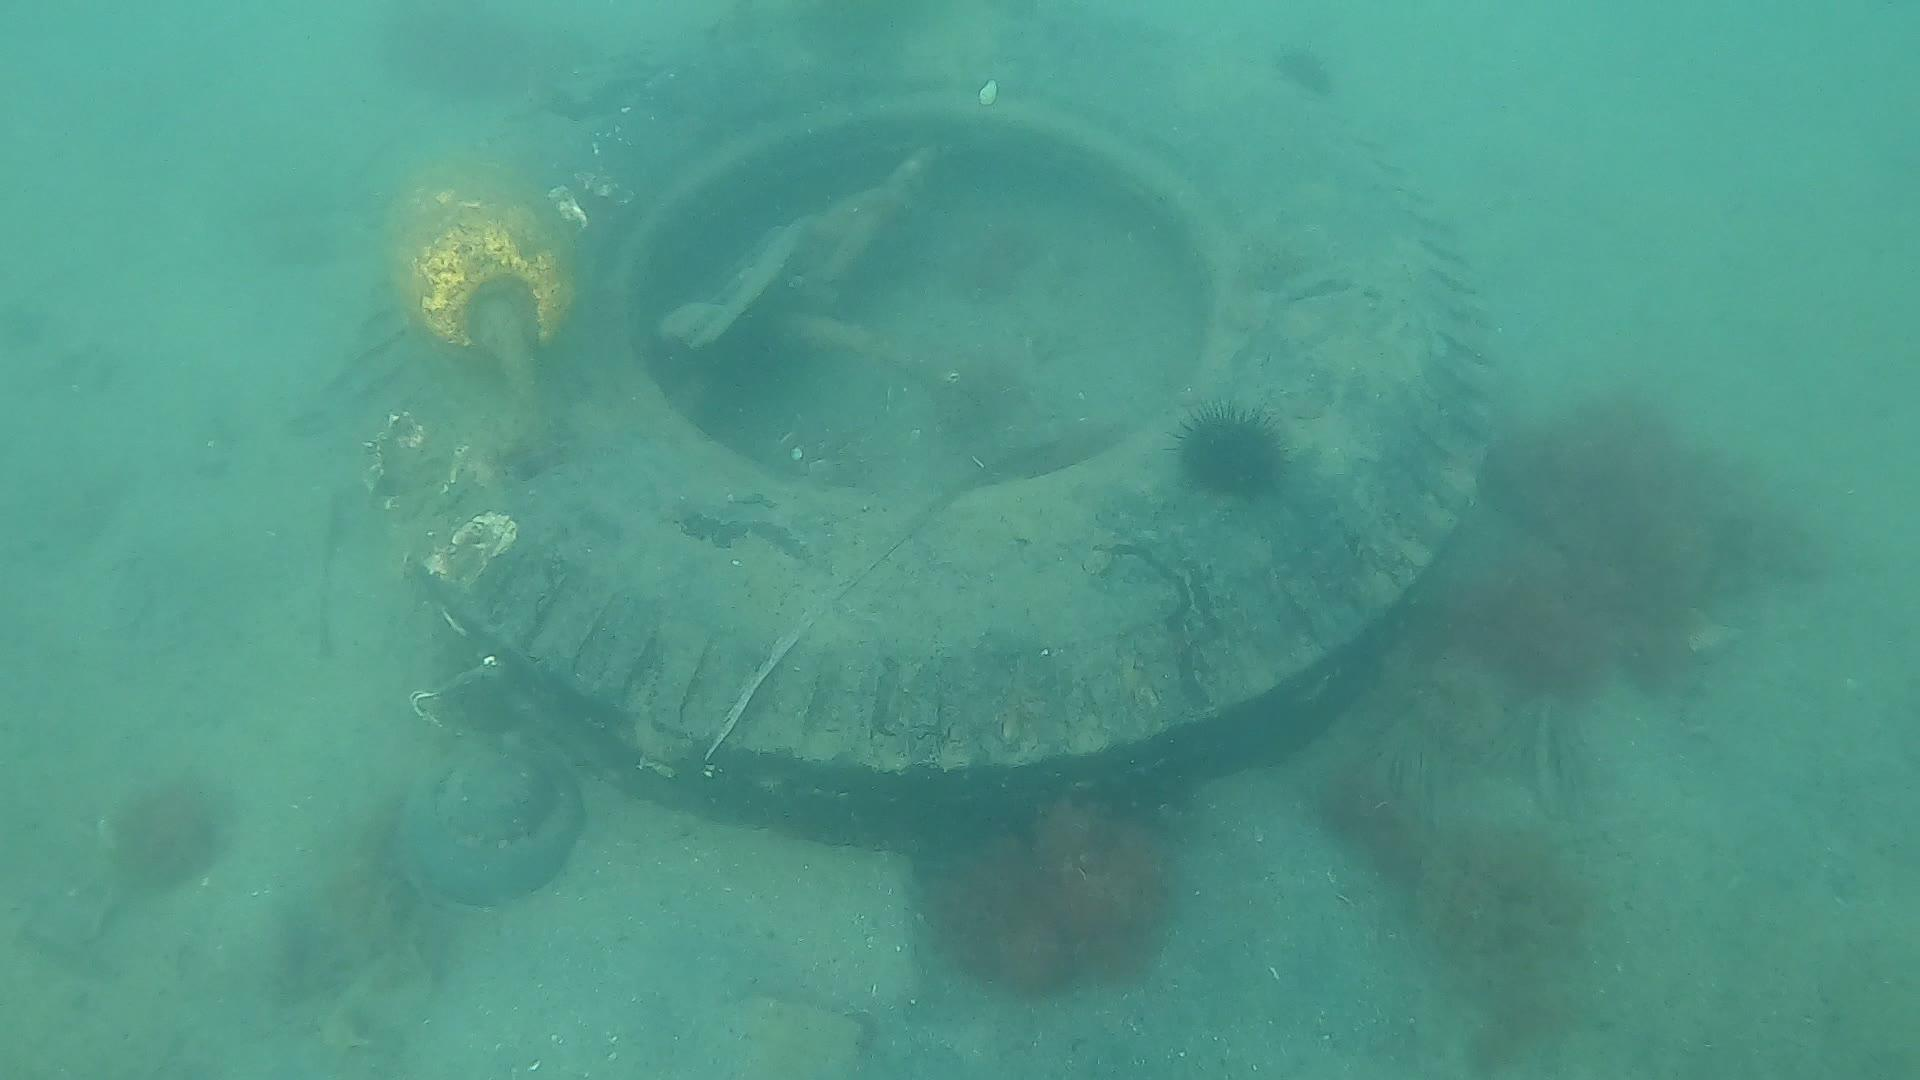tire: (349, 0, 1497, 858)
